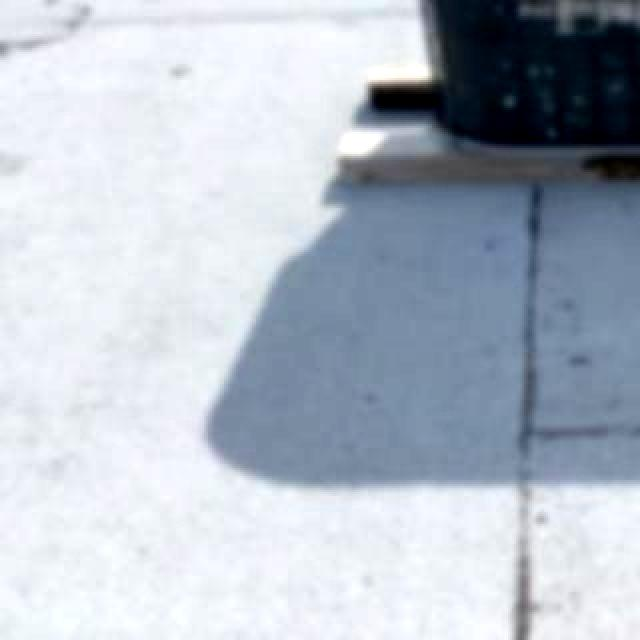SPLIT-SYSTEM: (386, 0, 640, 156)
